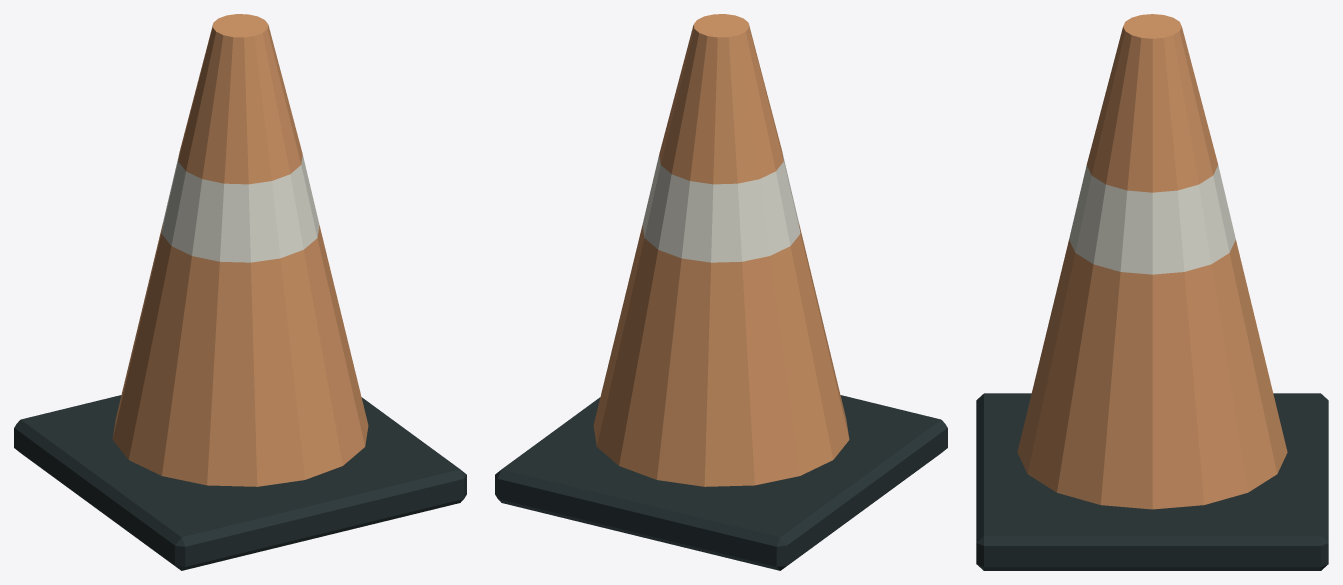
Rendered from coastal_warning_cone.glb.
3 views of the same model, side by side, from view 1: azimuth 30°, elevation 25°; view 2: azimuth 150°, elevation 25°; view 3: azimuth 270°, elevation 25° (orthographic). The views are drawn at different scales.
Visible parts, largest first — view 1: cone_lower, cone_base, cone_top, cone_band; view 2: cone_lower, cone_base, cone_top, cone_band; view 3: cone_lower, cone_base, cone_top, cone_band.
Boxes of the visible parts, bbox=[...] form: cone_lower: bbox=[112, 222, 368, 486]; cone_base: bbox=[14, 395, 466, 570]; cone_top: bbox=[178, 14, 302, 184]; cone_band: bbox=[161, 152, 319, 262]; cone_lower: bbox=[593, 222, 849, 486]; cone_base: bbox=[495, 395, 947, 570]; cone_top: bbox=[659, 14, 783, 184]; cone_band: bbox=[642, 152, 800, 262]; cone_lower: bbox=[1017, 240, 1287, 509]; cone_base: bbox=[976, 393, 1328, 570]; cone_top: bbox=[1086, 14, 1218, 192]; cone_band: bbox=[1069, 165, 1235, 274].
Bounding box in the file's own units: 0.3 × 0.4445 × 0.3.
